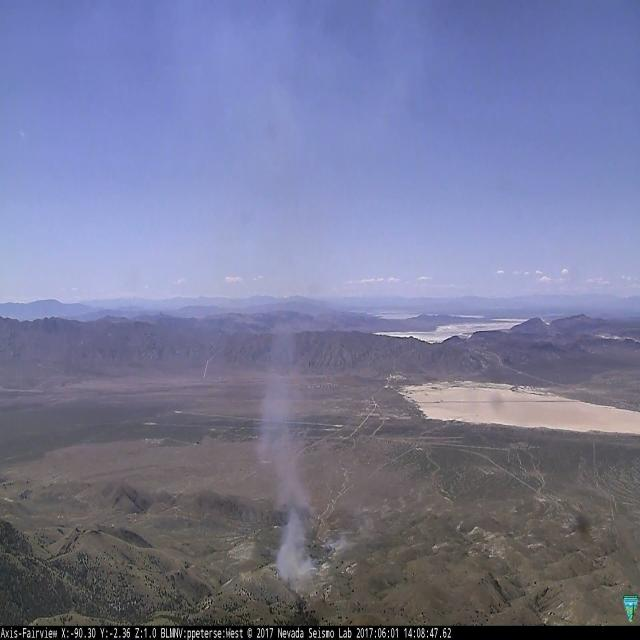smoke: (259, 322, 312, 580), (330, 531, 350, 552)
